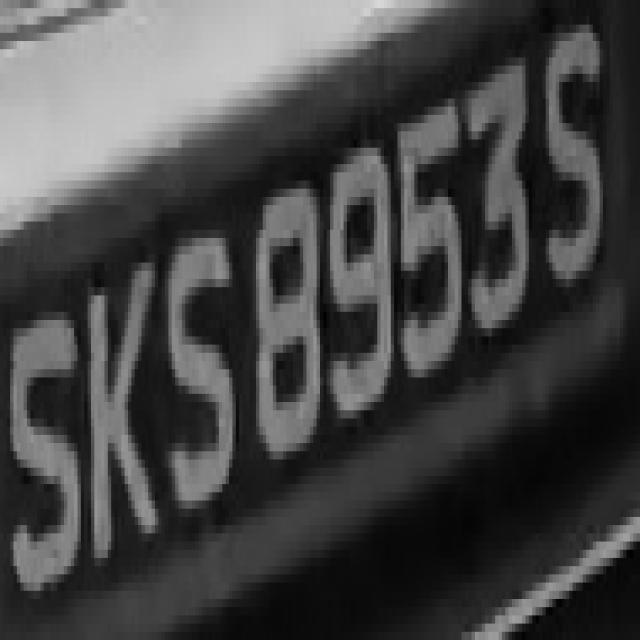3: (458, 66, 526, 386)
5: (391, 99, 472, 402)
8: (253, 164, 330, 476)
9: (327, 139, 404, 435)
K: (74, 255, 155, 582)
S: (10, 287, 81, 607), (162, 221, 232, 517), (542, 25, 606, 279)
